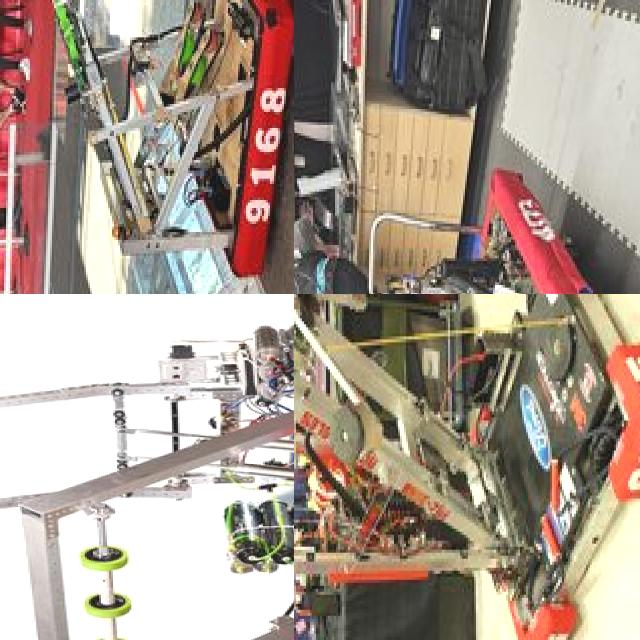FRC-Robots: (294, 294, 640, 640), (0, 294, 294, 640), (29, 0, 294, 294), (294, 120, 602, 294)
